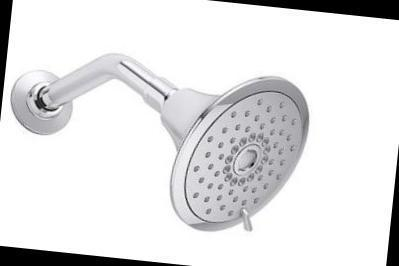Ducha: (0, 10, 351, 254)
